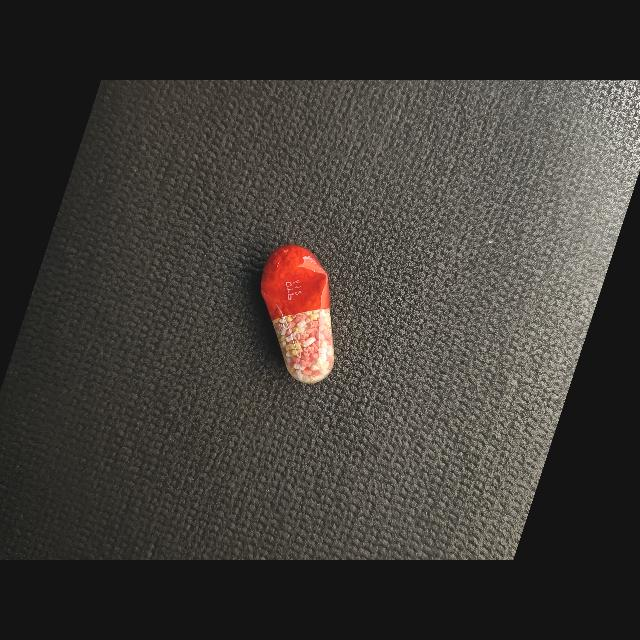Defective Capsule: (260, 245, 334, 384)
